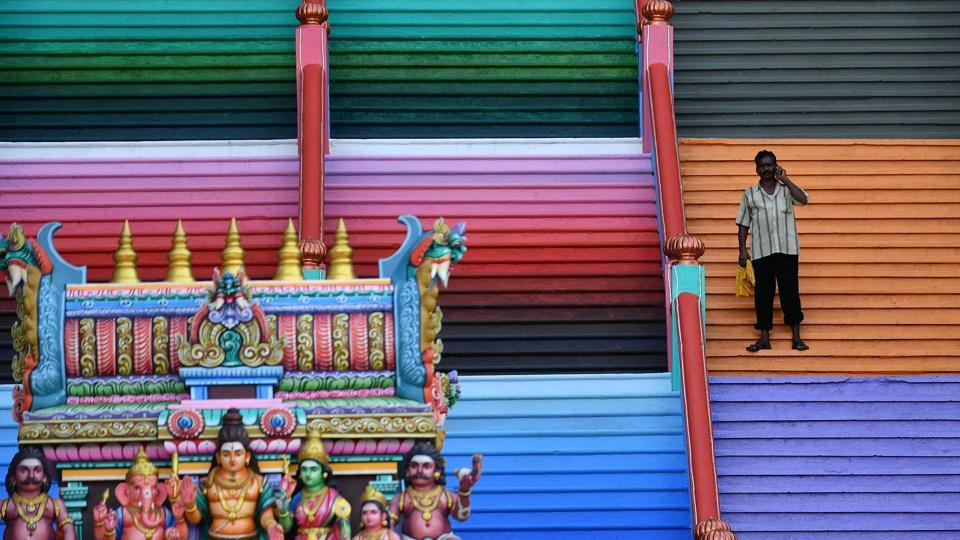Hindu Temple: (6, 220, 461, 527)
